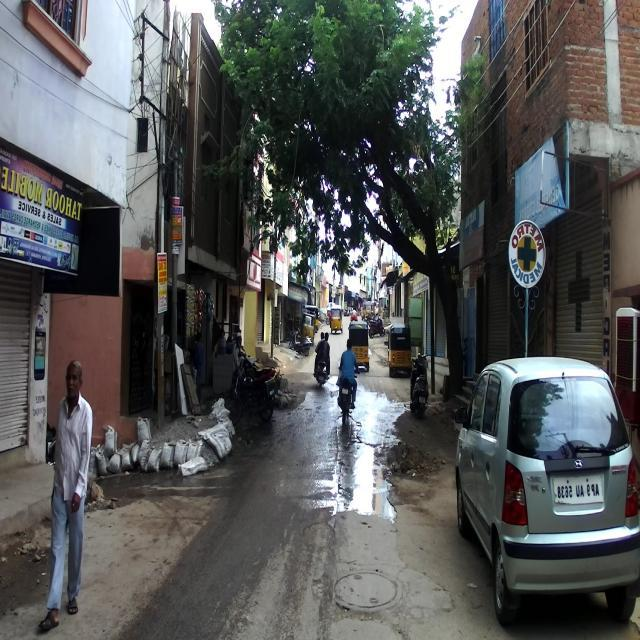pothole: (340, 427, 440, 522), (348, 394, 404, 427)
